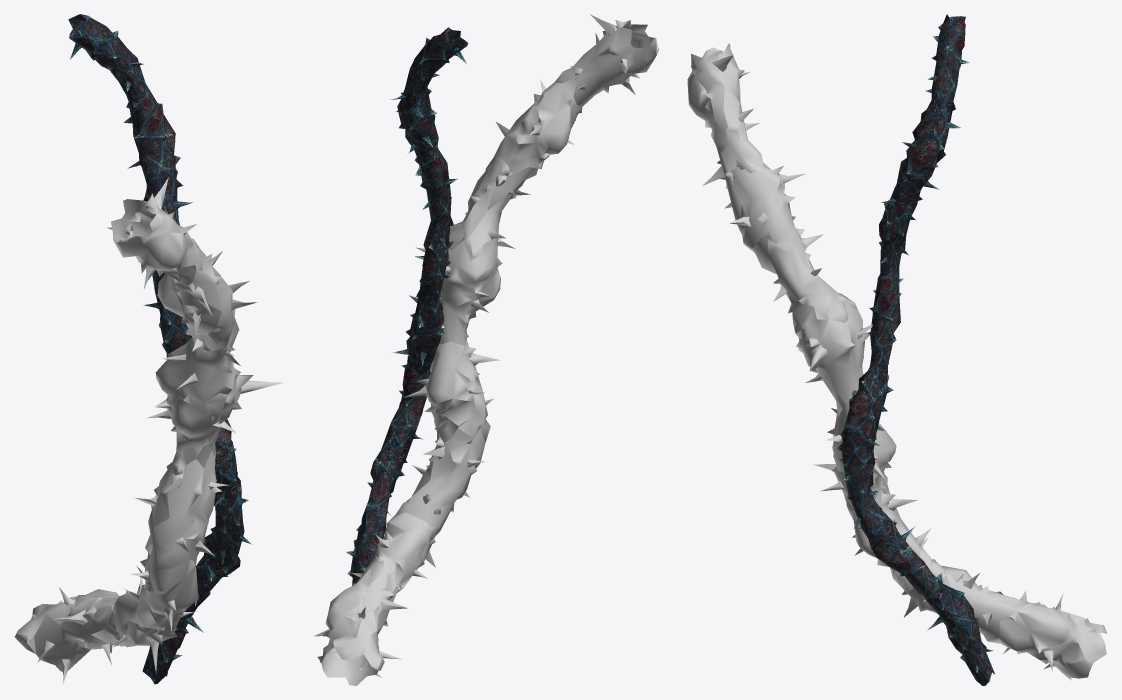
The model's file is 02_03_Makaijyu_03.fbx.
3 views of the same model, side by side, from view 1: azimuth 30°, elevation 25°; view 2: azimuth 150°, elevation 25°; view 3: azimuth 270°, elevation 25° (orthographic). The views are drawn at different scales.
Visible parts, largest first — view 1: LODGroup_3_MainMesh_1_SubMesh_2, LODGroup_3_MainMesh_1_SubMesh_1; view 2: LODGroup_3_MainMesh_1_SubMesh_2, LODGroup_3_MainMesh_1_SubMesh_1; view 3: LODGroup_3_MainMesh_1_SubMesh_2, LODGroup_3_MainMesh_1_SubMesh_1.
Boxes of the visible parts, x1=… form: LODGroup_3_MainMesh_1_SubMesh_2: x1=14, y1=177, x2=283, y2=684; LODGroup_3_MainMesh_1_SubMesh_1: x1=68, y1=14, x2=252, y2=684; LODGroup_3_MainMesh_1_SubMesh_2: x1=314, y1=14, x2=658, y2=685; LODGroup_3_MainMesh_1_SubMesh_1: x1=346, y1=27, x2=468, y2=585; LODGroup_3_MainMesh_1_SubMesh_2: x1=687, y1=43, x2=1107, y2=680; LODGroup_3_MainMesh_1_SubMesh_1: x1=836, y1=14, x2=994, y2=685.
Size of the model in its own units: 476 by 1466 by 867.
